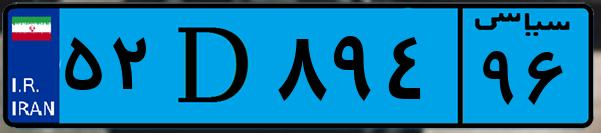2: (110, 28, 158, 98)
4: (385, 28, 445, 110)
5: (57, 26, 110, 100)
6: (525, 38, 570, 115)
8: (270, 28, 330, 110)
9: (330, 28, 385, 110), (475, 38, 525, 113)
D: (158, 12, 270, 120)
